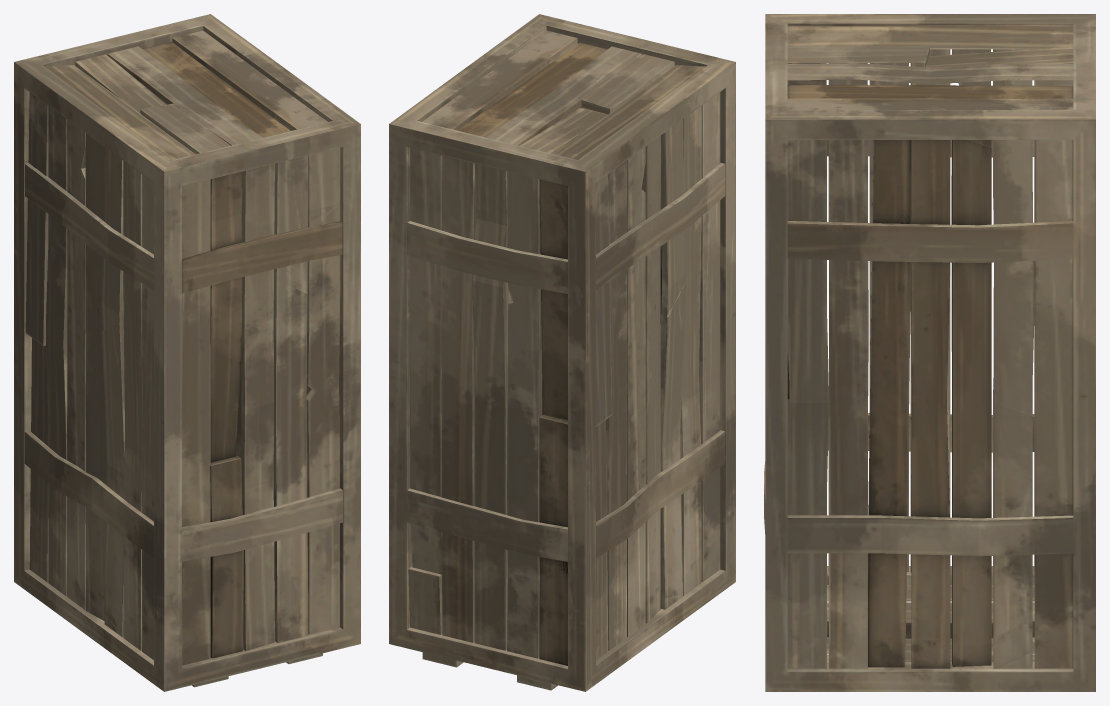
File: BreakableCrateTall.glb
3 views of the same model, side by side, from view 1: azimuth 30°, elevation 25°; view 2: azimuth 150°, elevation 25°; view 3: azimuth 270°, elevation 25° (orthographic). The views are drawn at different scales.
Parts seen in each view (by area): view 1: BreakableCrateTall, BreakableCrate_3_Gib1, BreakableCrate_3_Gib2, BreakableCrate_3_Gib3, BreakableCrate_3_Gib7, BreakableCrate_3_Gib20, BreakableCrate_3_Gib9, BreakableCrate_3_Gib12, BreakableCrate_3_Gib8, BreakableCrate_3_Gib17, BreakableCrate_3_Gib14, BreakableCrate_3_Gib10 (+4 smaller); view 2: BreakableCrateTall, BreakableCrate_3_Gib7, BreakableCrate_3_Gib2, BreakableCrate_3_Gib20, BreakableCrate_3_Gib12, BreakableCrate_3_Gib14, BreakableCrate_3_Gib15, BreakableCrate_3_Gib17, BreakableCrate_3_Gib10, BreakableCrate_3_Gib18, BreakableCrate_3_Gib6, BreakableCrate_3_Gib13 (+2 smaller); view 3: BreakableCrateTall, BreakableCrate_3_Gib4, BreakableCrate_3_Gib6, BreakableCrate_3_Gib3, BreakableCrate_3_Gib8, BreakableCrate_3_Gib17, BreakableCrate_3_Gib12, BreakableCrate_3_Gib11, BreakableCrate_3_Gib16, BreakableCrate_3_Gib14.
Boxes of the visible parts, x1,y1,x2,y2 form: BreakableCrateTall: (14, 18, 360, 691); BreakableCrate_3_Gib1: (111, 427, 289, 691); BreakableCrate_3_Gib2: (24, 322, 153, 643); BreakableCrate_3_Gib3: (260, 384, 360, 667); BreakableCrate_3_Gib7: (14, 225, 100, 619); BreakableCrate_3_Gib20: (46, 106, 66, 593); BreakableCrate_3_Gib9: (182, 161, 308, 409); BreakableCrate_3_Gib12: (142, 104, 262, 306); BreakableCrate_3_Gib8: (343, 190, 360, 388); BreakableCrate_3_Gib17: (113, 14, 260, 71); BreakableCrate_3_Gib14: (14, 38, 122, 147); BreakableCrate_3_Gib10: (123, 162, 141, 416); BreakableCrateTall: (389, 14, 735, 691); BreakableCrate_3_Gib7: (455, 334, 685, 691); BreakableCrate_3_Gib2: (596, 282, 724, 598); BreakableCrate_3_Gib20: (606, 161, 627, 650); BreakableCrate_3_Gib12: (584, 45, 735, 218); BreakableCrate_3_Gib14: (487, 128, 638, 245); BreakableCrate_3_Gib15: (597, 147, 685, 312); BreakableCrate_3_Gib17: (390, 87, 508, 228); BreakableCrate_3_Gib10: (683, 113, 701, 368); BreakableCrate_3_Gib18: (407, 221, 595, 347); BreakableCrate_3_Gib6: (389, 384, 567, 634); BreakableCrate_3_Gib13: (637, 97, 684, 254); BreakableCrateTall: (764, 14, 1095, 691); BreakableCrate_3_Gib4: (787, 140, 1073, 668); BreakableCrate_3_Gib6: (930, 406, 1095, 691); BreakableCrate_3_Gib3: (765, 405, 929, 691); BreakableCrate_3_Gib8: (765, 192, 880, 405); BreakableCrate_3_Gib17: (979, 66, 1095, 205); BreakableCrate_3_Gib12: (765, 14, 923, 84); BreakableCrate_3_Gib11: (765, 100, 882, 205); BreakableCrate_3_Gib16: (873, 110, 984, 264); BreakableCrate_3_Gib14: (978, 14, 1095, 64).
Size of the model in its own units: 0.9619 by 2.38 by 1.23.
1 material, 1 textured.
